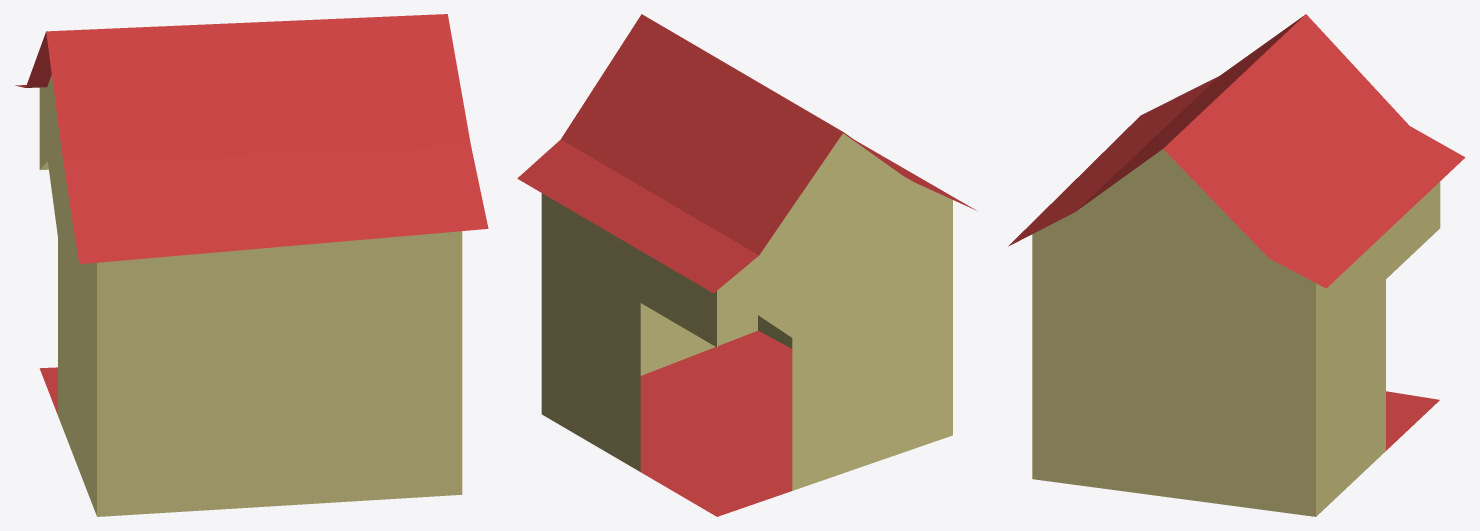
3 renders of one model, left to right at view 1: azimuth 30°, elevation 25°; view 2: azimuth 150°, elevation 25°; view 3: azimuth 270°, elevation 25°, orthographic. The views are drawn at different scales.
Size of the model in its own units: 17.31 by 18.31 by 15.69.
